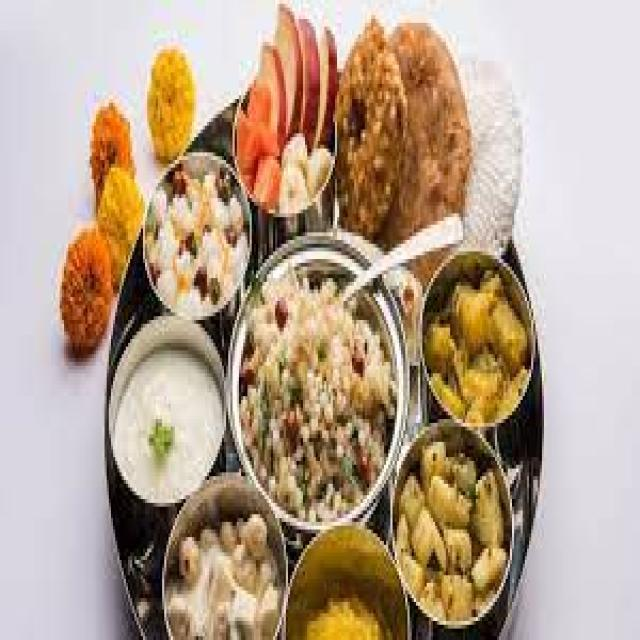curd: (101, 323, 232, 521)
raita: (107, 330, 227, 510)
rice: (234, 262, 397, 529)
veg-fry: (424, 260, 526, 430)
